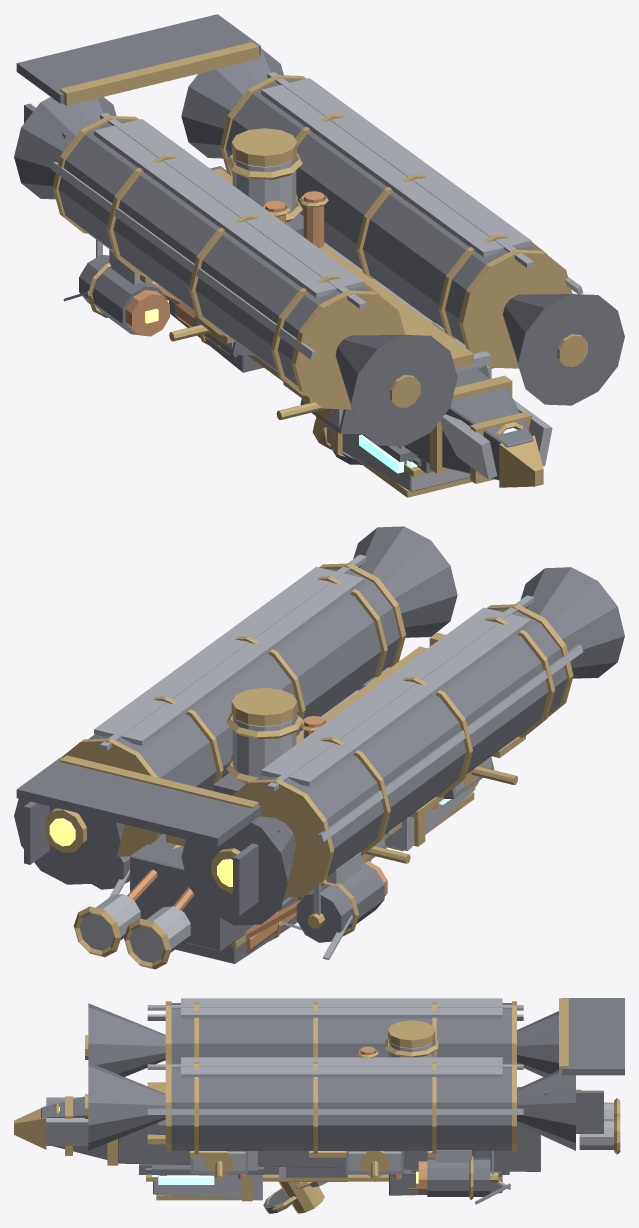
Rendered from gearforge_airship_lod1.glb.
3 views of the same model, one above another, from view 1: azimuth 30°, elevation 25°; view 2: azimuth 150°, elevation 25°; view 3: azimuth 270°, elevation 25° (orthographic). The views are drawn at different scales.
Parts seen in each view (by area): view 1: gearforge_airship_dark_iron_lod1, gearforge_airship_brass_lod1, gearforge_airship_steel_lod1, gearforge_airship_copper_lod1, gearforge_airship_aether_glow_lod1; view 2: gearforge_airship_dark_iron_lod1, gearforge_airship_steel_lod1, gearforge_airship_brass_lod1, gearforge_airship_copper_lod1, gearforge_airship_furnace_glow_lod1; view 3: gearforge_airship_dark_iron_lod1, gearforge_airship_steel_lod1, gearforge_airship_brass_lod1, gearforge_airship_aether_glow_lod1, gearforge_airship_copper_lod1.
Boxes of the visible parts, <box> form: gearforge_airship_dark_iron_lod1: <box>14,14,624,480</box>; gearforge_airship_brass_lod1: <box>52,42,587,497</box>; gearforge_airship_steel_lod1: <box>51,72,583,491</box>; gearforge_airship_copper_lod1: <box>125,191,324,355</box>; gearforge_airship_aether_glow_lod1: <box>359,428,516,473</box>; gearforge_airship_dark_iron_lod1: <box>14,526,624,963</box>; gearforge_airship_steel_lod1: <box>79,554,583,962</box>; gearforge_airship_brass_lod1: <box>45,563,573,969</box>; gearforge_airship_copper_lod1: <box>127,716,439,953</box>; gearforge_airship_furnace_glow_lod1: <box>49,818,232,886</box>; gearforge_airship_dark_iron_lod1: <box>41,998,624,1213</box>; gearforge_airship_steel_lod1: <box>46,998,613,1204</box>; gearforge_airship_brass_lod1: <box>14,998,620,1213</box>; gearforge_airship_aether_glow_lod1: <box>59,1107,431,1184</box>; gearforge_airship_copper_lod1: <box>238,1046,427,1193</box>.
Bounding box in the file's own units: 13.44 × 11.39 × 34.95.
